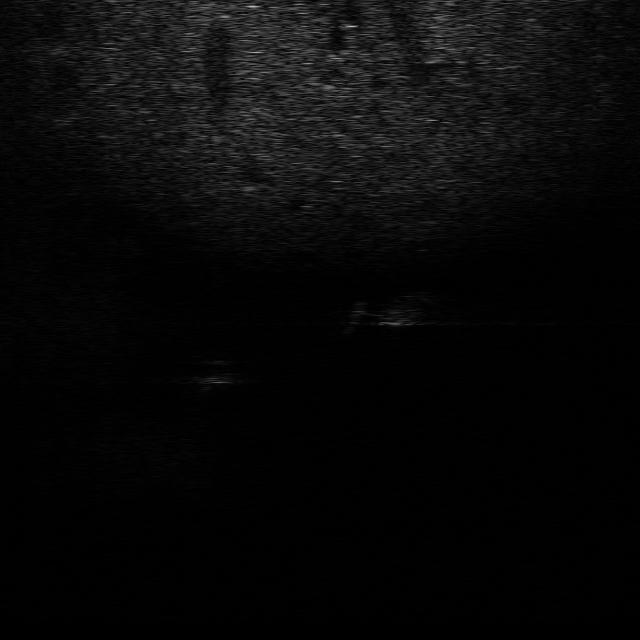ball: (183, 356, 245, 389)
human body: (338, 290, 443, 336)
